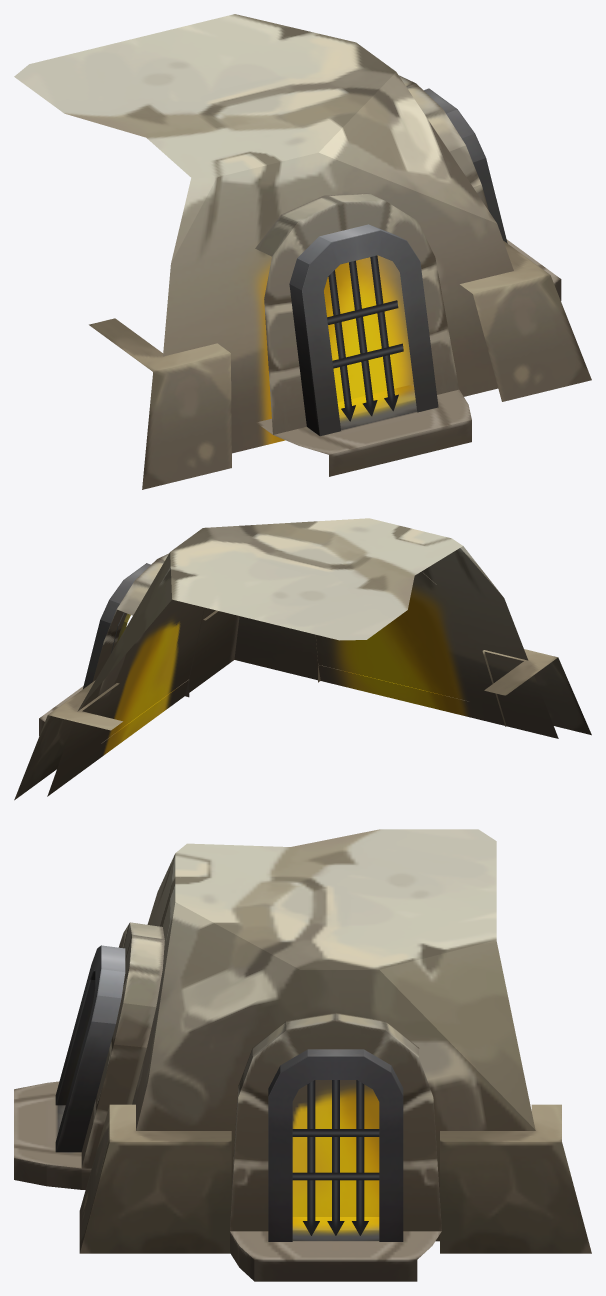
Rendered from B_POWcamp01.fbx.
3 views of the same model, one above another, from view 1: azimuth 30°, elevation 25°; view 2: azimuth 150°, elevation 25°; view 3: azimuth 270°, elevation 25° (orthographic). The views are drawn at different scales.
Parts seen in each view (by area): view 1: B_POWcamp01_01; view 2: B_POWcamp01_01; view 3: B_POWcamp01_01.
Part boxes in pixels (x1,y1,x2,y2): B_POWcamp01_01: [14, 14, 591, 489]; B_POWcamp01_01: [14, 518, 591, 800]; B_POWcamp01_01: [14, 829, 591, 1281].
Size of the model in its own units: 4.47 by 2.08 by 4.47.
Materials: 1 (1 with a texture image).
